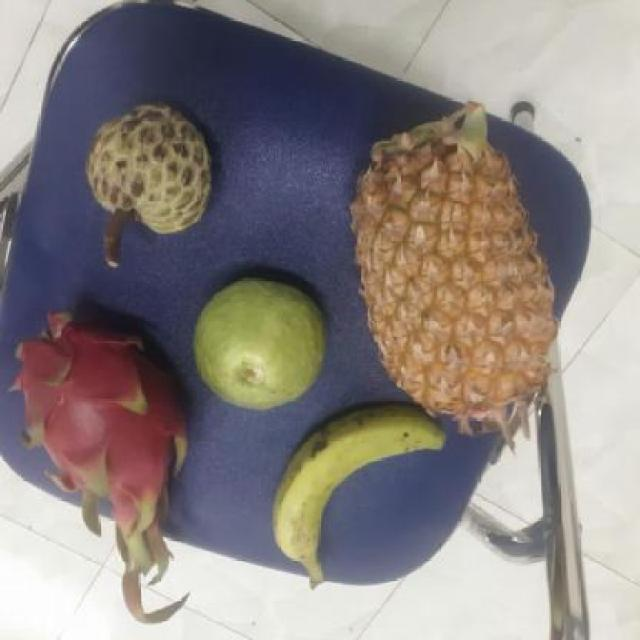banana: (276, 408, 456, 584)
dragon fruit: (23, 311, 199, 515)
guava: (195, 279, 334, 410)
pineapple: (353, 115, 564, 423)
sugar apple: (87, 101, 222, 236)
